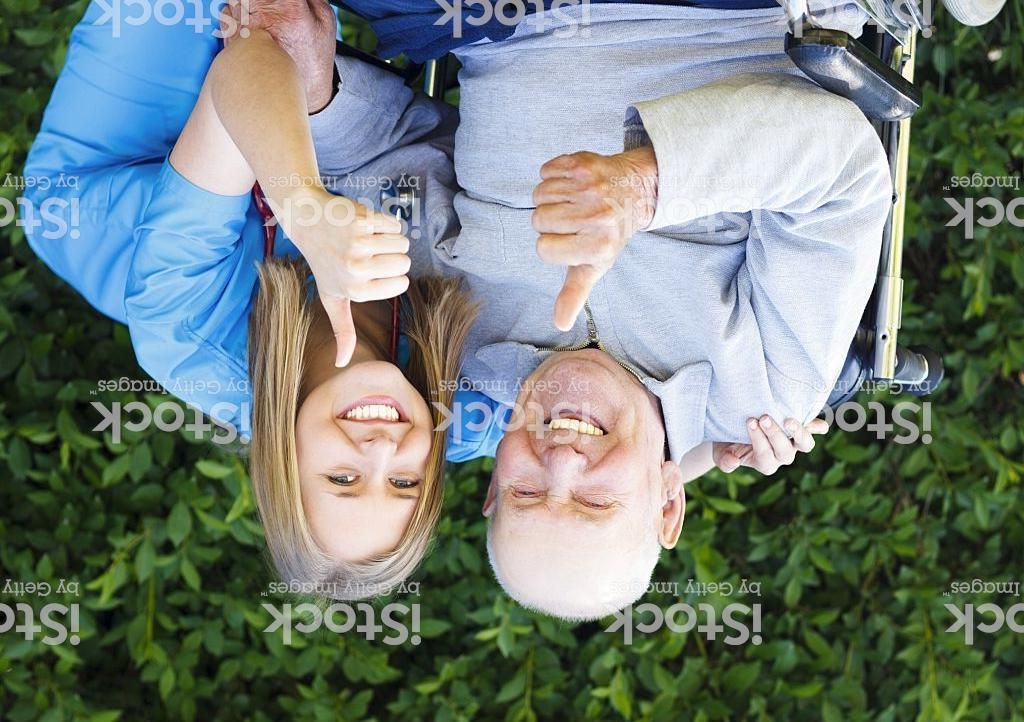thumbsdown: (529, 147, 627, 333), (320, 203, 412, 369)
